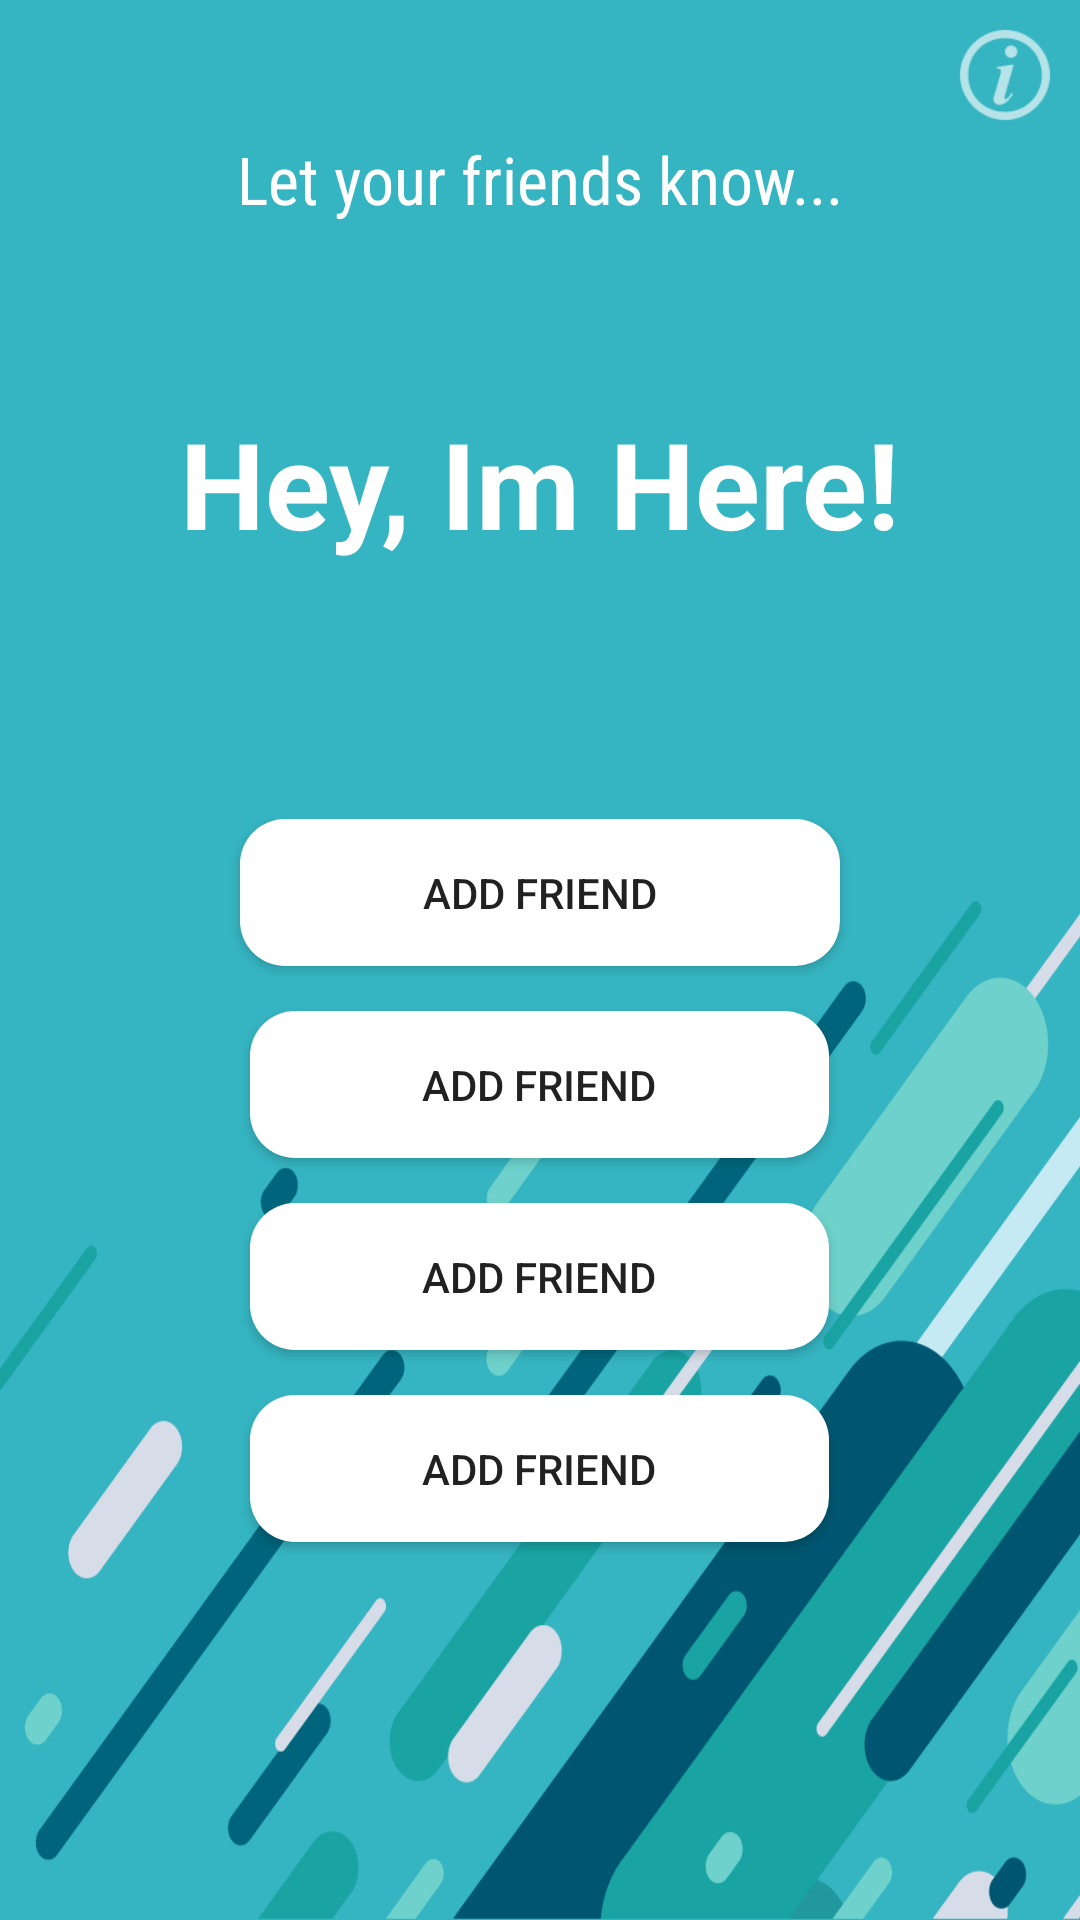

Screen size 1080px×1920px. Icon name, then its box in pixels as (x1, y1, x2, y2):
info: (960, 30, 1050, 120)
